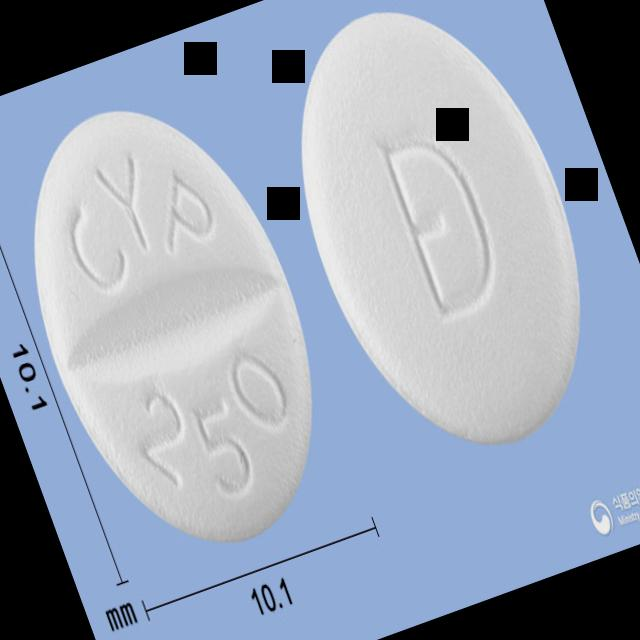Bearcin - 500mg: (0, 68, 372, 586)
